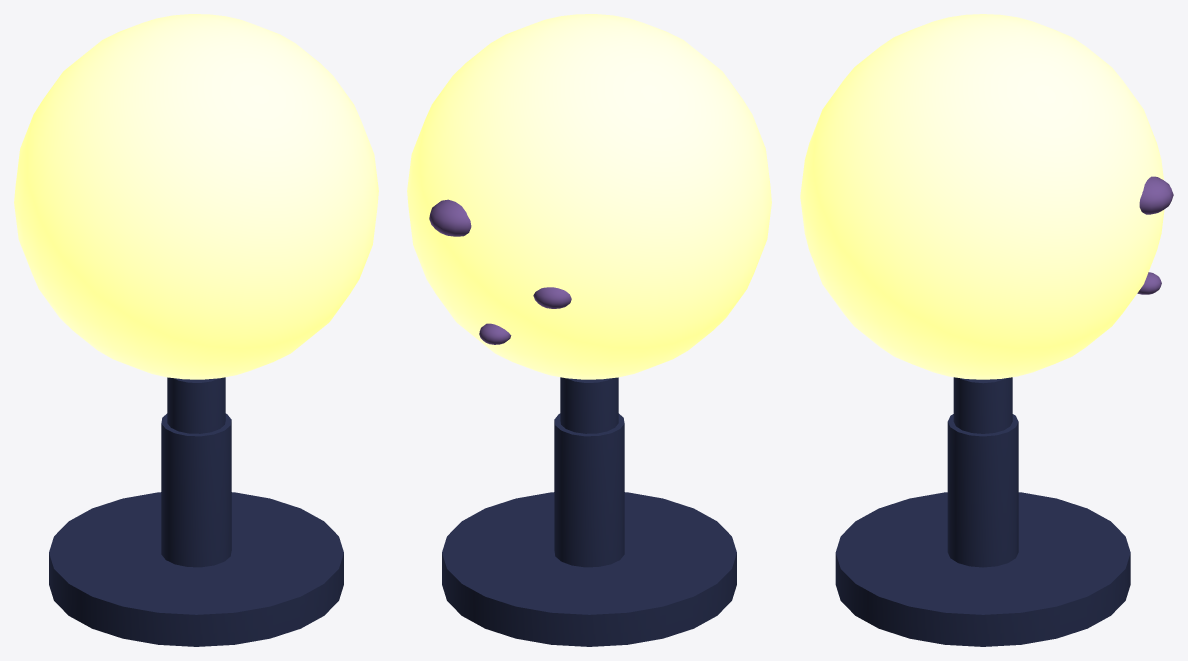
File: zone_night_moon_lamp.glb
3 views of the same model, side by side, from view 1: azimuth 30°, elevation 25°; view 2: azimuth 150°, elevation 25°; view 3: azimuth 270°, elevation 25° (orthographic).
Visible parts, largest first — view 1: zone_night_moon_lamp; view 2: zone_night_moon_lamp; view 3: zone_night_moon_lamp.
Boxes of the visible parts, box(x1,y1,x2,y2) form: zone_night_moon_lamp: box(14, 14, 378, 646); zone_night_moon_lamp: box(407, 14, 771, 646); zone_night_moon_lamp: box(800, 14, 1173, 646).
Size of the model in its own units: 1.24 by 2.07 by 1.27.
